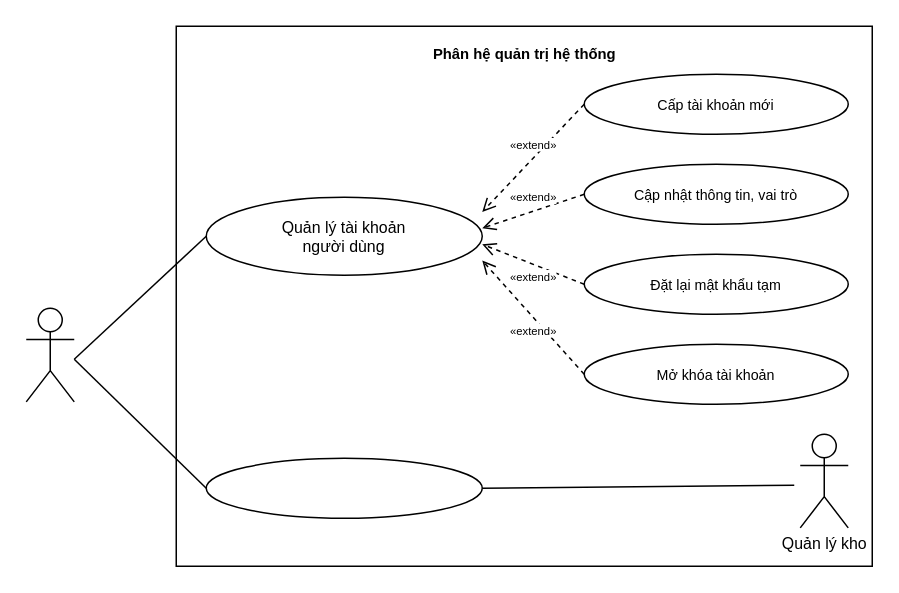
Some shapes in this 899 by 593 pixel diagram are drawn without their labels. The centre of each missing label's shape, as x and y in pixels:
"Admin" goes at point (49, 354).
"Xem nhật ký hoạt động" goes at point (343, 487).
